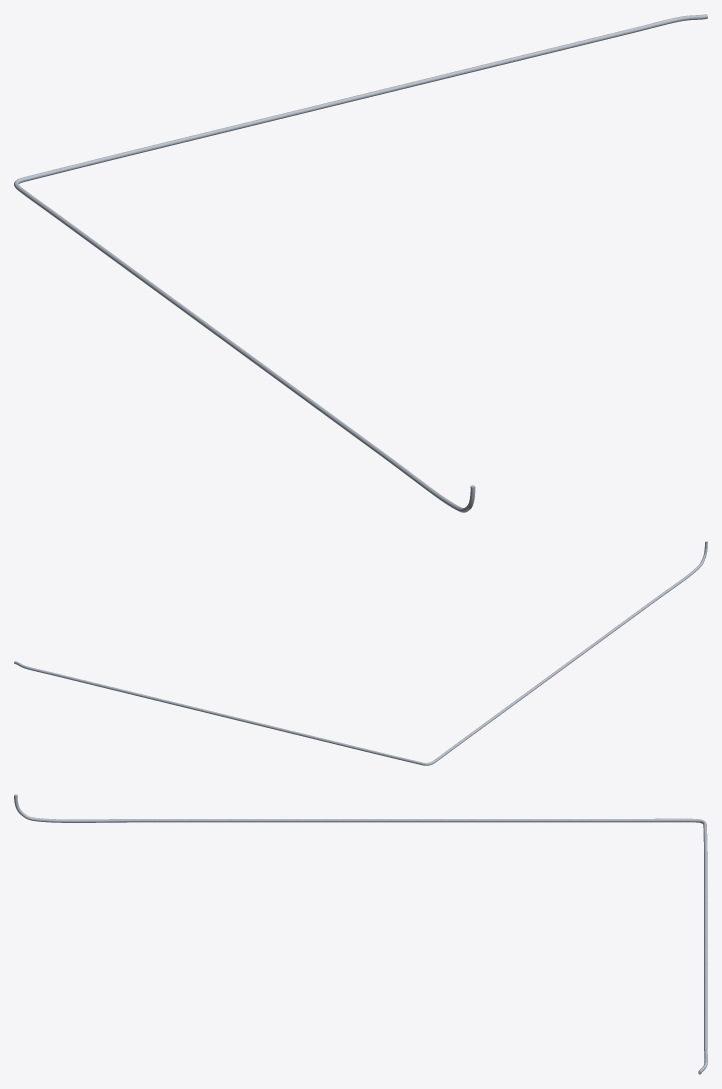
The model's file is SM_Cable_2_Splines_9.fbx.
3 views of the same model, one above another, from view 1: azimuth 30°, elevation 25°; view 2: azimuth 150°, elevation 25°; view 3: azimuth 270°, elevation 25° (orthographic). The views are drawn at different scales.
Parts seen in each view (by area): view 1: SM_Cable_2_Splines_9; view 2: SM_Cable_2_Splines_9; view 3: SM_Cable_2_Splines_9.
Part boxes in pixels (x1=…): SM_Cable_2_Splines_9: x1=14, y1=14, x2=707, y2=512; SM_Cable_2_Splines_9: x1=14, y1=541, x2=707, y2=765; SM_Cable_2_Splines_9: x1=14, y1=794, x2=707, y2=1074.
Bounding box in the file's own units: 908 × 1052 × 46.17.
